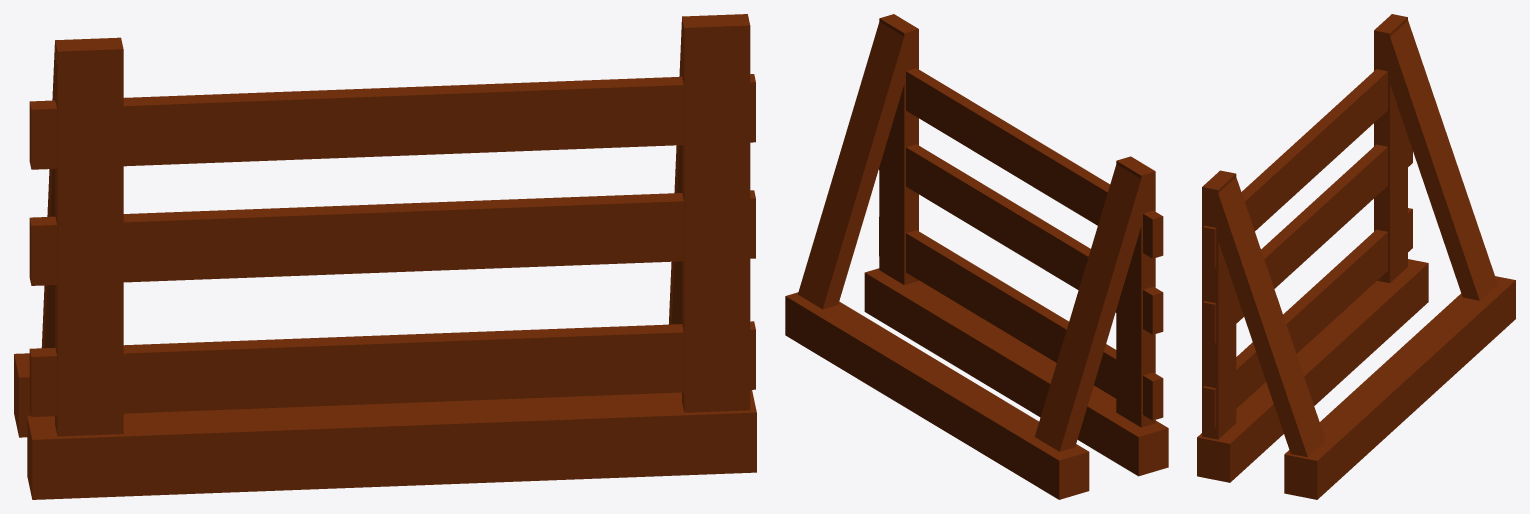
File: shield.fbx
3 renders of one model, left to right at view 1: azimuth 30°, elevation 25°; view 2: azimuth 150°, elevation 25°; view 3: azimuth 270°, elevation 25°, orthographic. The views are drawn at different scales.
Parts seen in each view (by area): view 1: Cube_16, Cube_24, Cube_23, Cube_22, Cube_18, Cube_19, Cube_21, Cube_17, Cube_20; view 2: Cube_17, Cube_16, Cube_21, Cube_20, Cube_24, Cube_22, Cube_23, Cube_18, Cube_19; view 3: Cube_17, Cube_16, Cube_20, Cube_21, Cube_24, Cube_23, Cube_22, Cube_18, Cube_19.
Part boxes in pixels (x1,y1,x2,y2): Cube_16: (27, 390, 756, 499); Cube_24: (29, 74, 755, 169); Cube_23: (29, 321, 755, 416); Cube_22: (29, 190, 755, 285); Cube_18: (682, 14, 750, 412); Cube_19: (55, 37, 123, 436); Cube_21: (41, 45, 57, 348); Cube_17: (14, 353, 30, 437); Cube_20: (668, 22, 681, 324); Cube_17: (785, 292, 1089, 499); Cube_16: (864, 268, 1168, 476); Cube_21: (1035, 164, 1154, 451); Cube_20: (798, 22, 916, 309); Cube_24: (906, 68, 1163, 258); Cube_22: (879, 144, 1163, 334); Cube_23: (879, 217, 1163, 420); Cube_18: (879, 14, 918, 284); Cube_19: (1116, 156, 1155, 427); Cube_17: (1284, 276, 1515, 499); Cube_16: (1197, 259, 1428, 482); Cube_20: (1203, 177, 1325, 457); Cube_21: (1390, 20, 1497, 300); Cube_24: (1203, 69, 1387, 268); Cube_23: (1203, 208, 1412, 428); Cube_22: (1203, 137, 1412, 343); Cube_18: (1202, 170, 1236, 439); Cube_19: (1374, 14, 1407, 283).
Bounding box in the file's own units: 235 × 155 × 155.
